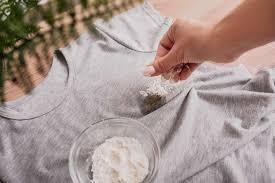oil: (110, 79, 176, 118)
